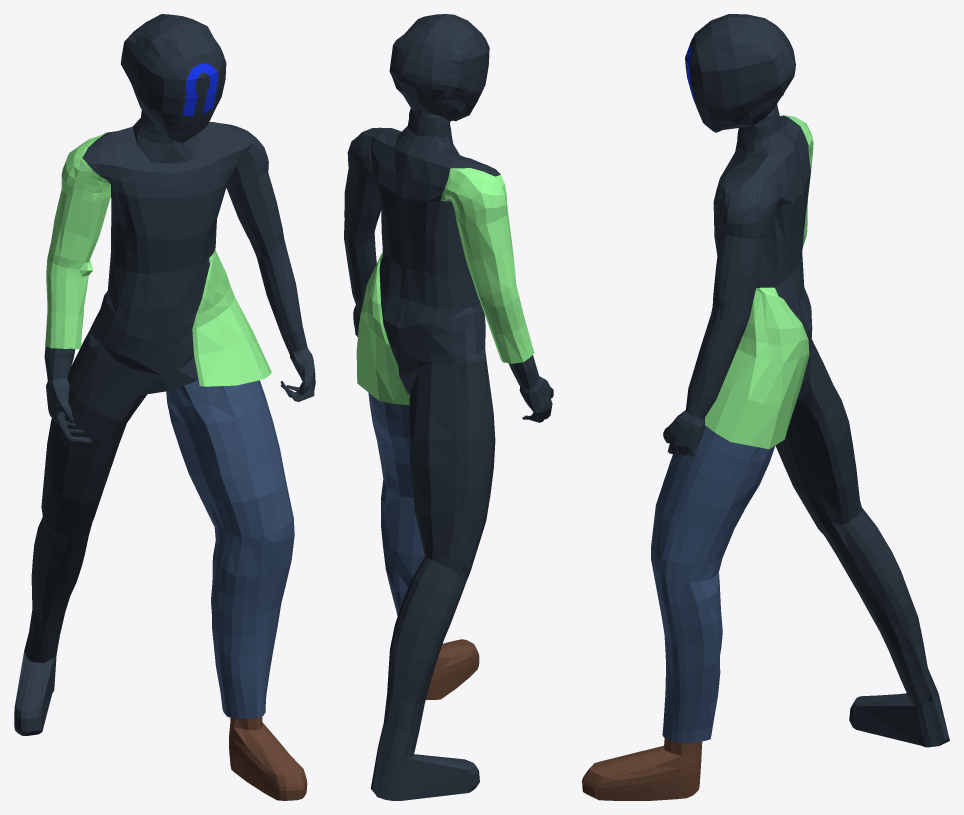
Rendered from Mar_Recover_000026.obj.
The picture shows the model from 3 angles, left to right: view 1: azimuth 30°, elevation 25°; view 2: azimuth 150°, elevation 25°; view 3: azimuth 270°, elevation 25°; orthographic projection. The views are drawn at different scales.
Visible parts, largest first — view 1: Cube.000_Cube.001; view 2: Cube.000_Cube.001; view 3: Cube.000_Cube.001.
Boxes of the visible parts, <box> form: Cube.000_Cube.001: <box>14,14,315,800</box>; Cube.000_Cube.001: <box>344,14,553,800</box>; Cube.000_Cube.001: <box>582,14,949,800</box>.
Bounding box in the file's own units: 1.25 × 3.83 × 1.7.
